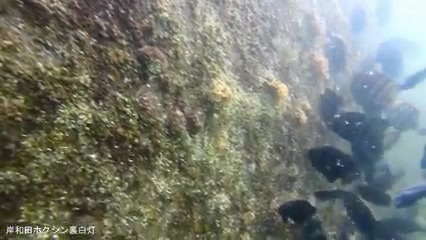smallfish: (305, 141, 361, 189)
